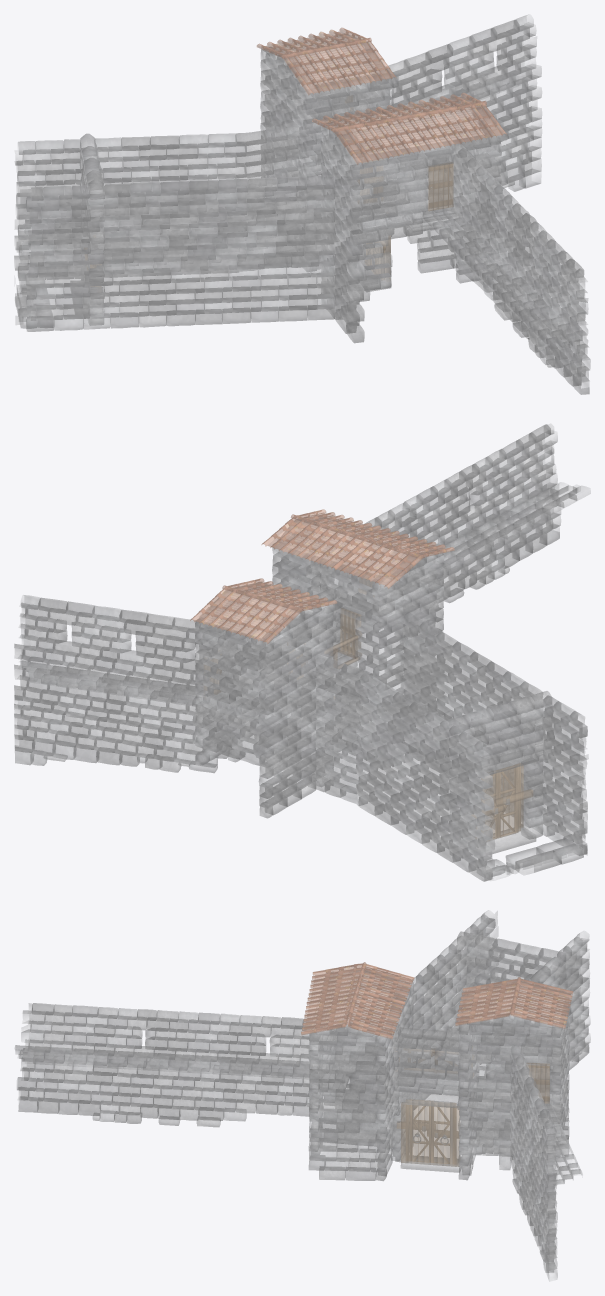
The model's file is model-yxV-2hBm.glb.
3 renders of one model, top to bottom at view 1: azimuth 30°, elevation 25°; view 2: azimuth 150°, elevation 25°; view 3: azimuth 270°, elevation 25°, orthographic. The views are drawn at different scales.
Visible parts, largest first — view 1: CPER_InCity; view 2: CPER_InCity; view 3: CPER_InCity.
Boxes of the visible parts, bbox=[...] form: CPER_InCity: bbox=[14, 14, 590, 394]; CPER_InCity: bbox=[14, 423, 590, 881]; CPER_InCity: bbox=[14, 910, 590, 1281].
Bounding box in the file's own units: 23.77 × 8.5 × 24.03.
93 materials, 91 textured.
